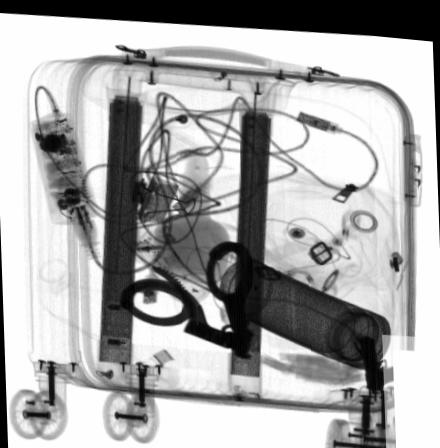Gun: (357, 326, 407, 382)
HandCuffs: (117, 235, 255, 353)
